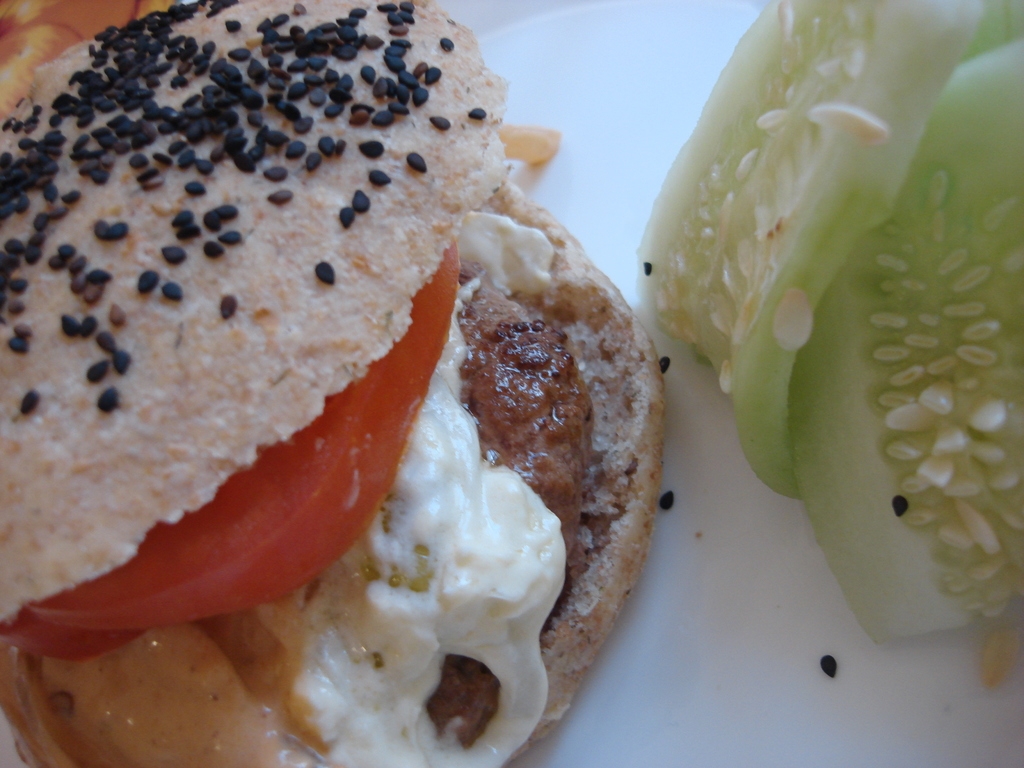sandwich: (0, 0, 669, 767)
